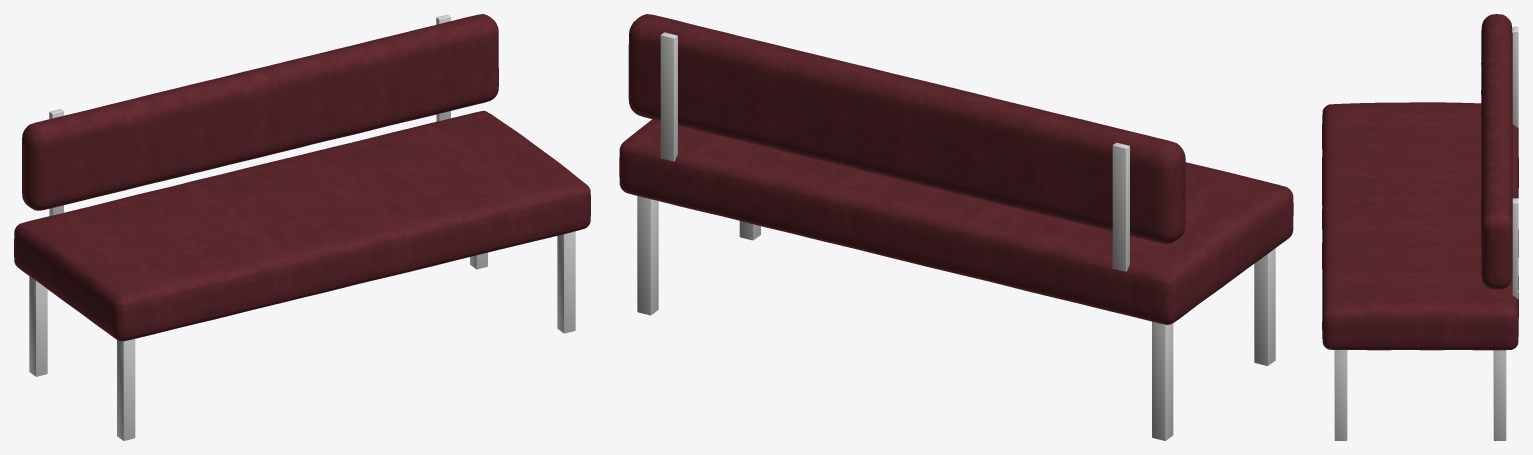
File: recelyJYx8hHIFvCe.glb
3 renders of one model, left to right at view 1: azimuth 30°, elevation 25°; view 2: azimuth 150°, elevation 25°; view 3: azimuth 270°, elevation 25°, orthographic. The views are drawn at different scales.
Parts seen in each view (by area): view 1: Banquette_Assise, Banquette_Dossier, Banquette_Pieds_Montants; view 2: Banquette_Dossier, Banquette_Assise, Banquette_Pieds_Montants; view 3: Banquette_Assise, Banquette_Dossier, Banquette_Pieds_Montants.
Part boxes in pixels (x1,y1,x2,y2): Banquette_Assise: (14, 110, 590, 341); Banquette_Dossier: (22, 14, 498, 210); Banquette_Pieds_Montants: (29, 14, 575, 440); Banquette_Dossier: (628, 14, 1185, 243); Banquette_Assise: (619, 119, 1293, 324); Banquette_Pieds_Montants: (637, 32, 1275, 440); Banquette_Assise: (1322, 102, 1518, 350); Banquette_Dossier: (1481, 14, 1512, 289); Banquette_Pieds_Montants: (1334, 26, 1518, 440).
Bounding box in the file's own units: 1.6 × 0.8046 × 0.6313.
2 materials, 1 textured.
